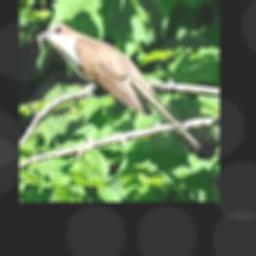Cuckoo: (37, 21, 200, 152)
